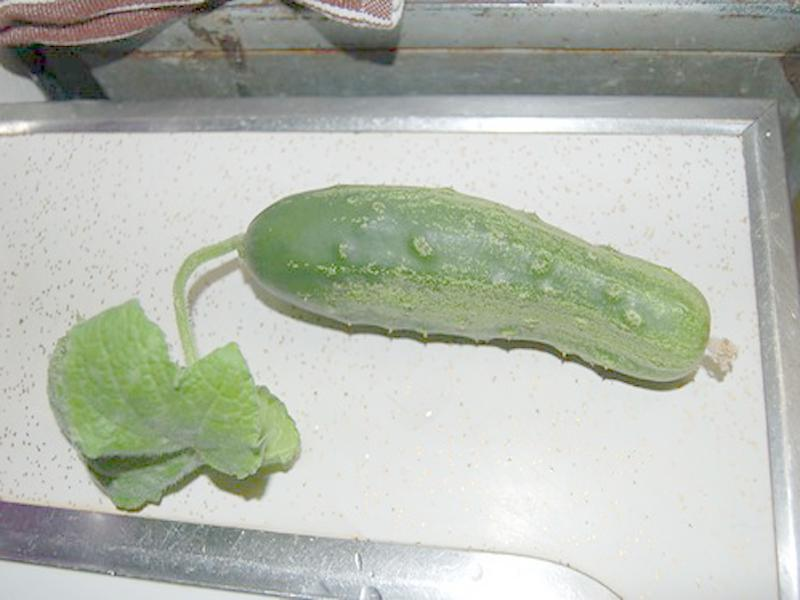Cucumber: (236, 183, 738, 385)
